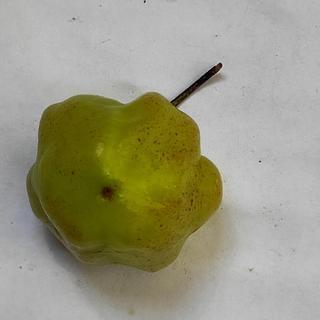Grade-B: (23, 87, 227, 271)
